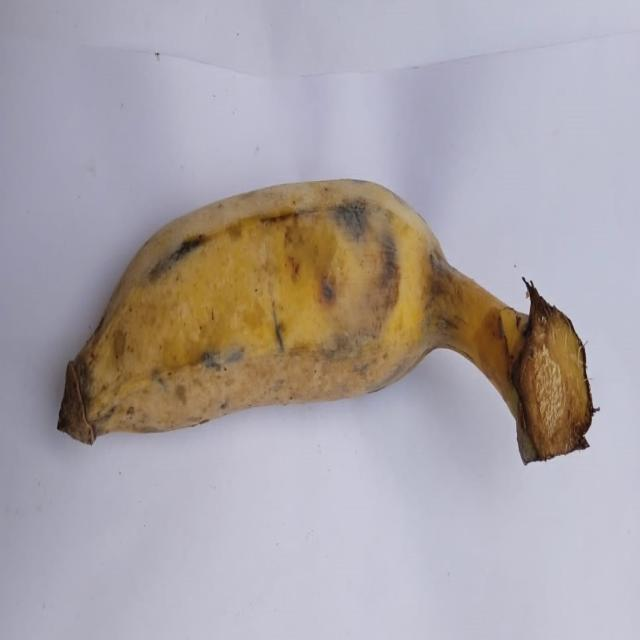banana: (58, 181, 594, 462)
